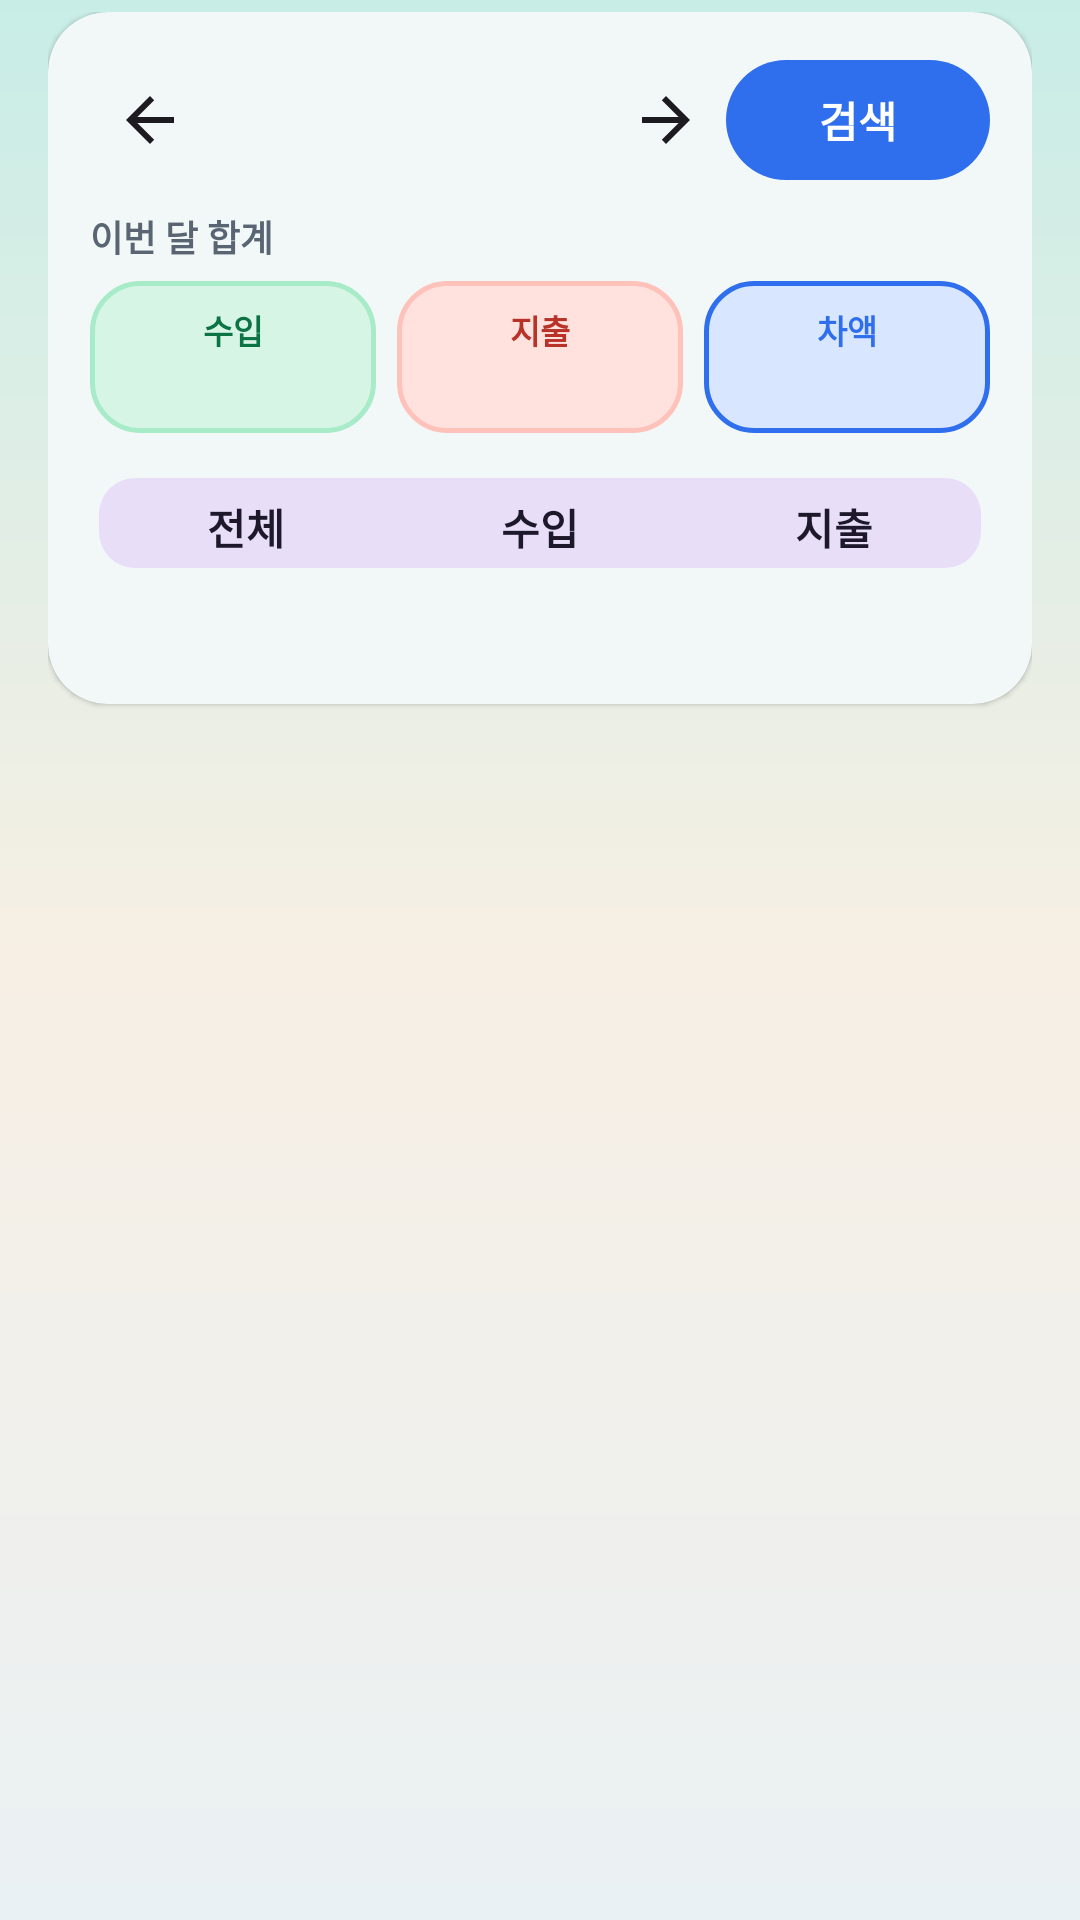

Icon click points for this 1080 × 1920 phone screenshot, format [x,y]:
이전 달: [150,120]
